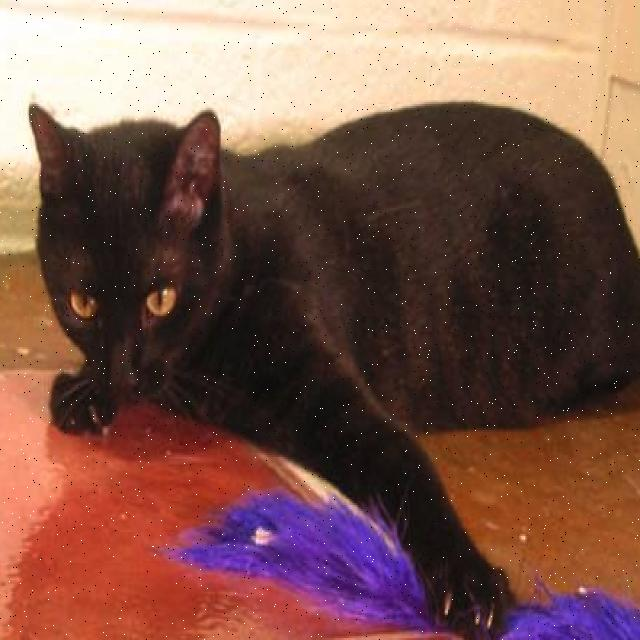Cat: (22, 107, 227, 416)
